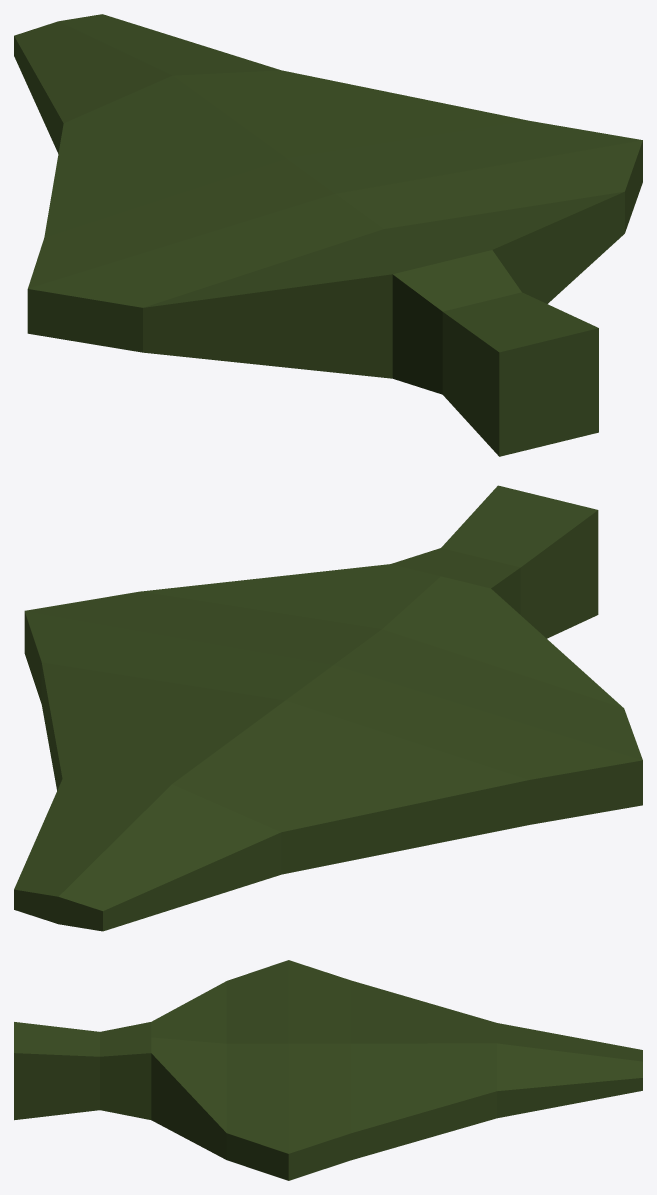
The model's file is Ivy_Leaf.glb.
3 renders of one model, top to bottom at view 1: azimuth 30°, elevation 25°; view 2: azimuth 150°, elevation 25°; view 3: azimuth 270°, elevation 25°, orthographic. The views are drawn at different scales.
Visible parts, largest first — view 1: Ivy_Leaf.001; view 2: Ivy_Leaf.001; view 3: Ivy_Leaf.001.
Boxes of the visible parts, <box> form: Ivy_Leaf.001: <box>14,14,642,456</box>; Ivy_Leaf.001: <box>14,485,642,931</box>; Ivy_Leaf.001: <box>14,960,642,1180</box>.
Size of the model in its own units: 0.1183 by 0.0192 by 0.1629.
1 material, 1 textured.
